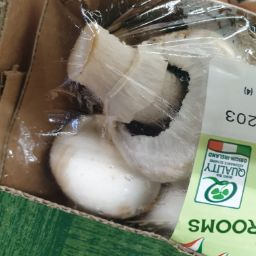Mushrooms: (59, 10, 231, 166), (44, 114, 164, 218)
